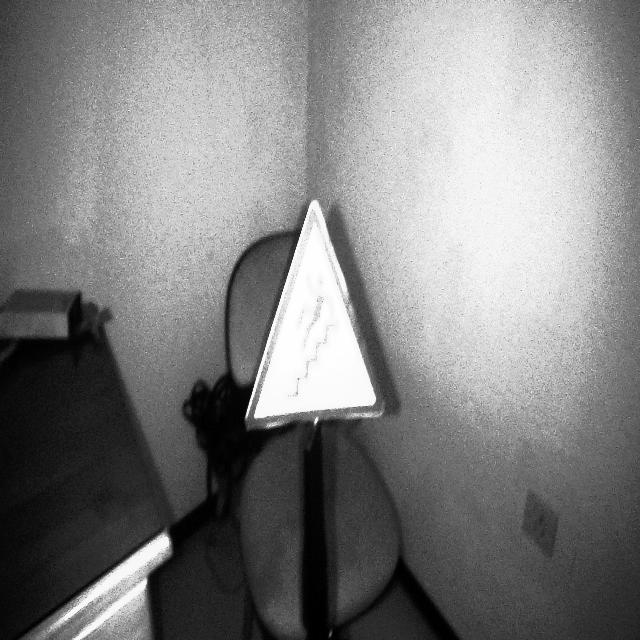Sign: (243, 199, 387, 435)
